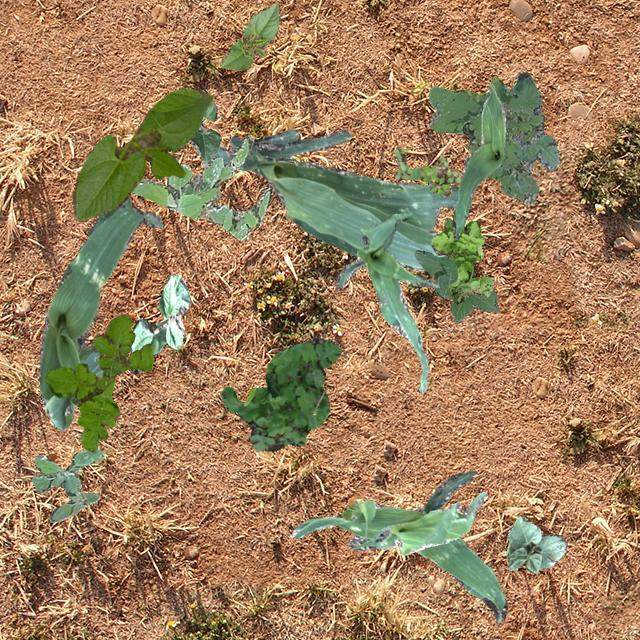crop: (214, 128, 458, 270), (288, 470, 506, 620), (37, 196, 162, 430), (334, 210, 438, 392), (70, 88, 212, 220), (452, 82, 504, 238), (371, 491, 486, 554), (130, 272, 190, 373), (218, 2, 280, 70), (506, 514, 566, 574), (188, 98, 220, 166)
weed: (428, 70, 558, 202), (44, 314, 152, 452), (130, 134, 270, 240), (220, 336, 340, 449), (414, 250, 498, 322), (431, 218, 494, 302), (31, 448, 102, 522), (394, 147, 461, 195)
